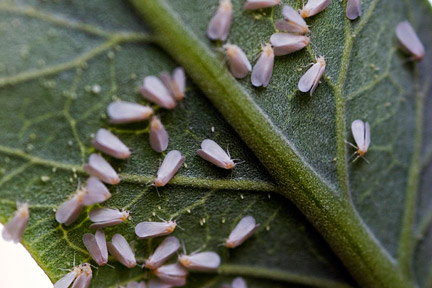whitefly: (147, 150, 186, 194), (138, 236, 180, 274), (196, 138, 243, 170), (298, 53, 332, 96), (90, 128, 134, 161), (83, 153, 122, 189), (55, 184, 88, 226), (81, 229, 114, 270), (139, 75, 176, 111), (220, 40, 253, 80), (222, 216, 259, 250), (250, 39, 275, 88), (108, 100, 153, 127), (206, 1, 236, 41), (2, 201, 29, 245), (107, 233, 139, 269), (345, 119, 370, 164), (276, 5, 312, 36), (270, 31, 310, 57), (136, 215, 181, 237), (158, 68, 187, 102), (179, 251, 219, 274), (89, 207, 130, 229), (82, 176, 112, 206), (151, 263, 189, 285), (148, 116, 169, 152)
